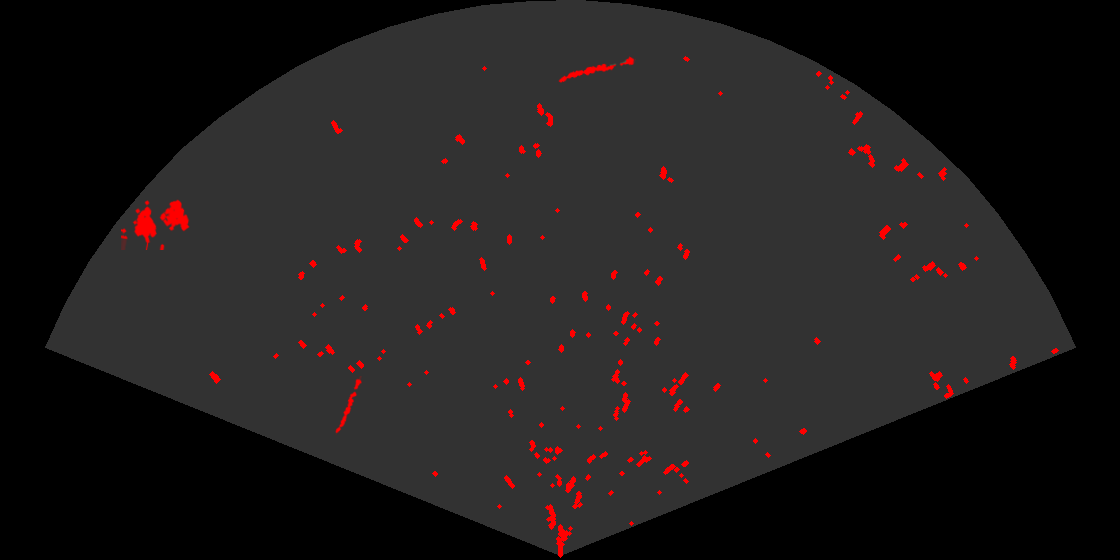cage: (121, 198, 191, 250)
chain: (557, 55, 636, 84), (334, 376, 363, 436)
